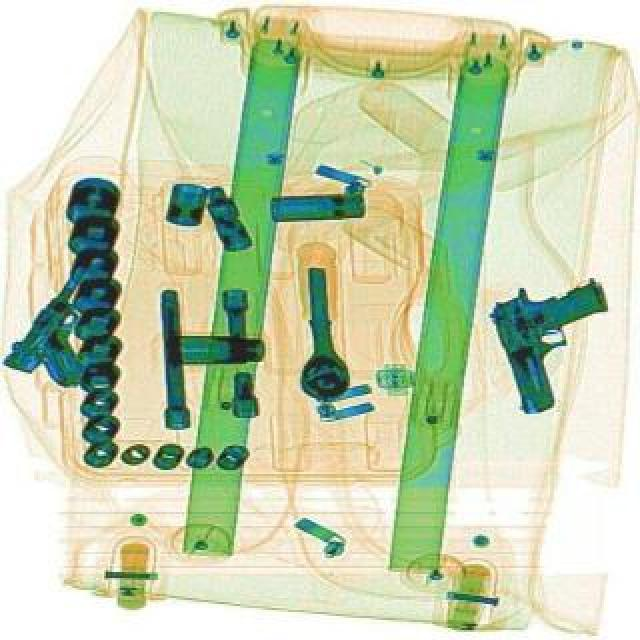gun: (482, 266, 630, 414), (0, 252, 142, 396)
